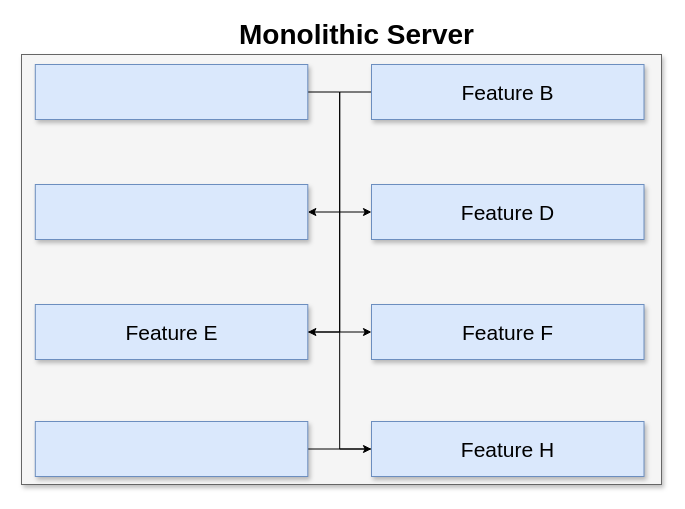
Some shapes in this 685 by 509 pixel diagram are drawn without their labels. Here are the shapes that lost their labels. From the top down, the centre of each, then its label:
At pixel 172 93: "Feature A".
At pixel 172 213: "Feature C".
At pixel 172 450: "Feature G".
